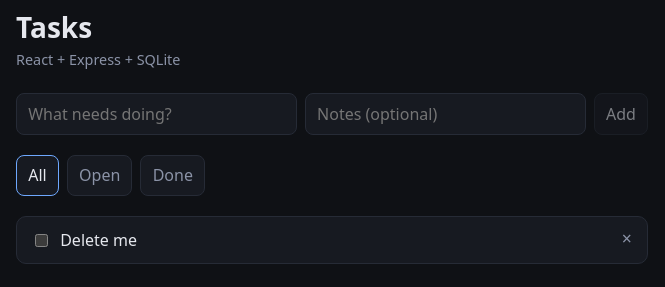
App › deletes a task
The width and height of the screenshot is (665, 287).
Check: the text "Delete me" is shown, box [60, 229, 137, 251]
Click the button named "Delete Delete me" at (627,239), box [615, 226, 638, 252]
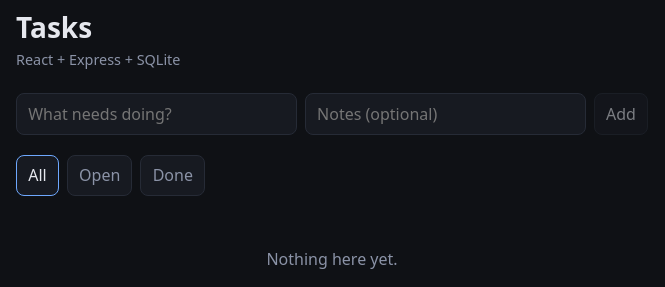
Check: the text "Nothing here yet." is shown, box [266, 248, 398, 270]
